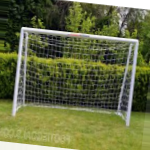goals: (9, 26, 140, 126)
